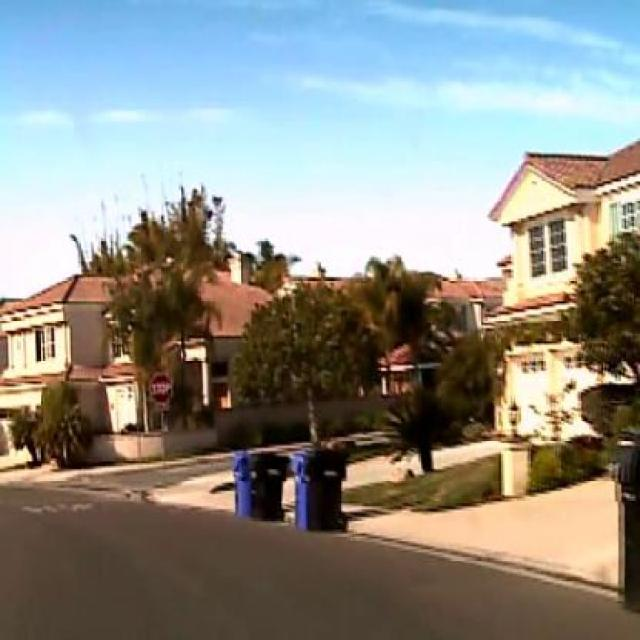stop: (149, 372, 173, 406)
